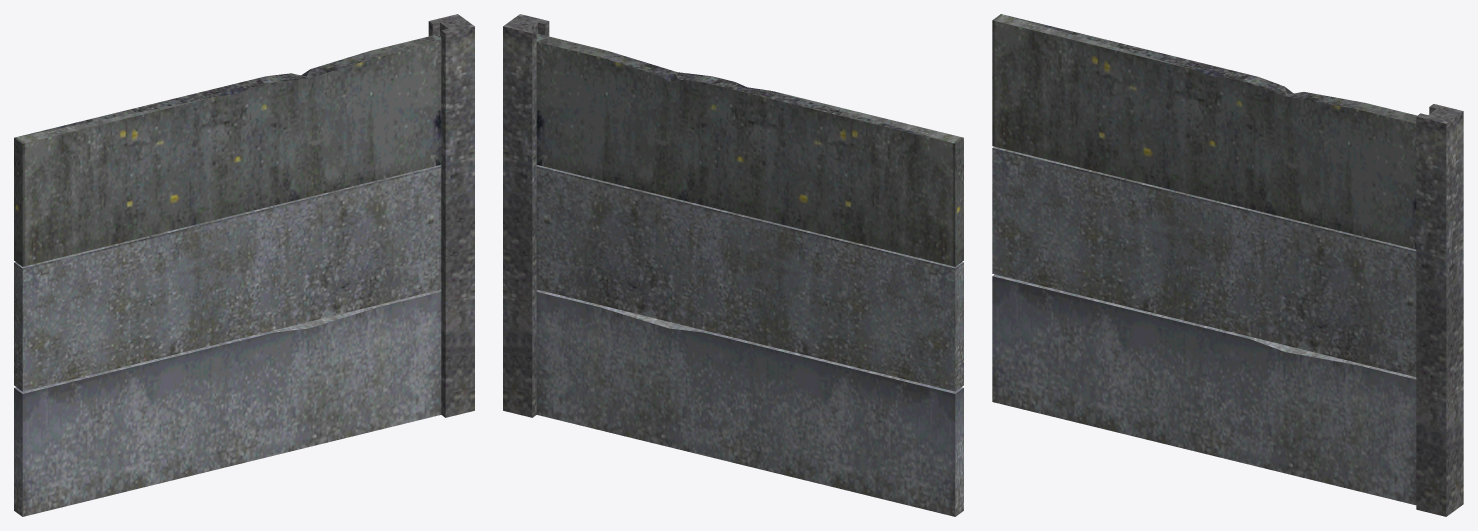
File: Urban_PlackardClosed_Alternate_aca119_Model.fbx
3 views of the same model, side by side, from view 1: azimuth 30°, elevation 25°; view 2: azimuth 150°, elevation 25°; view 3: azimuth 330°, elevation 25° (orthographic). The views are drawn at different scales.
Visible parts, largest first — view 1: Urban_PlackardClosed_Alternate_aca119_Mesh; view 2: Urban_PlackardClosed_Alternate_aca119_Mesh; view 3: Urban_PlackardClosed_Alternate_aca119_Mesh.
Part boxes in pixels (x1,y1,x2,y2): Urban_PlackardClosed_Alternate_aca119_Mesh: (14,14,474,516); Urban_PlackardClosed_Alternate_aca119_Mesh: (503,14,963,516); Urban_PlackardClosed_Alternate_aca119_Mesh: (992,14,1463,516).
Size of the model in its own units: 3.05 by 2.5 by 0.2.
